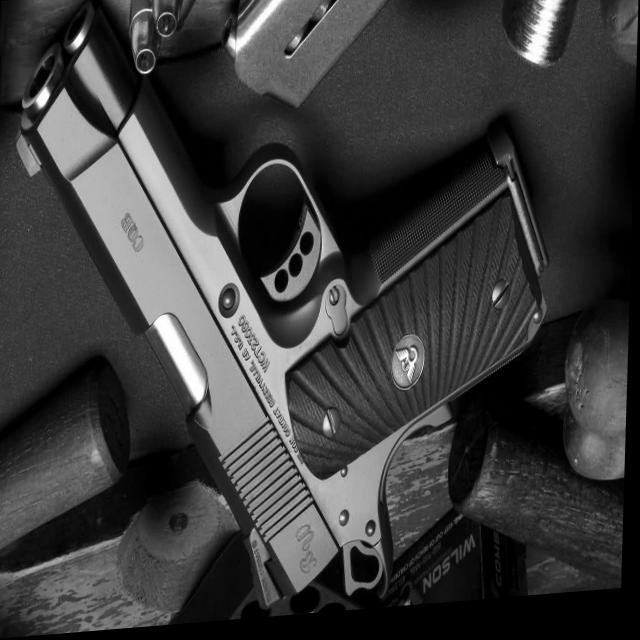handgun: (4, 0, 556, 626)
